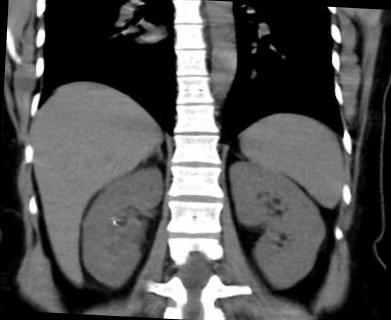Tas_Var: (112, 219, 119, 228)
